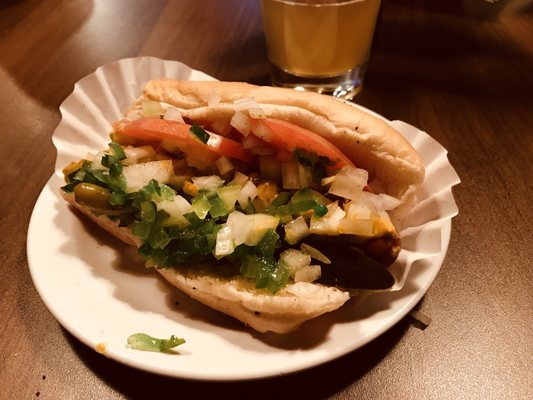pizza: (260, 0, 384, 102)
soup: (55, 79, 422, 336)
